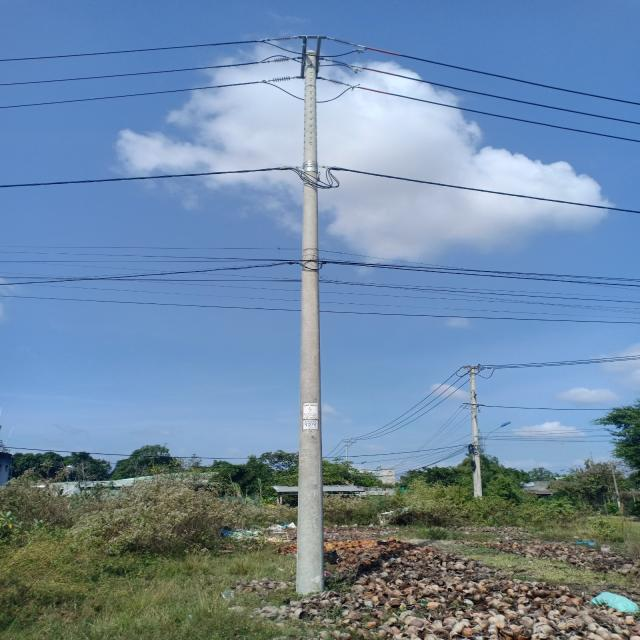light_pole: (294, 43, 326, 590)
